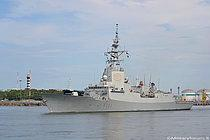MIL_Ship: (39, 47, 194, 113)
